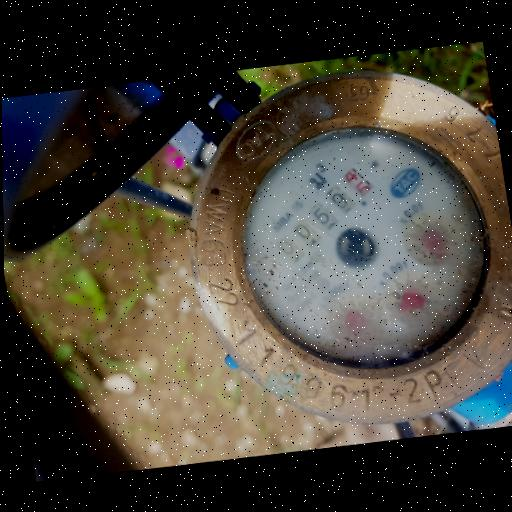0: (272, 231, 306, 269), (290, 215, 324, 252)
4: (340, 164, 374, 201)
5: (306, 199, 341, 236)
9: (322, 180, 358, 217)
border_water_meter_number: (255, 151, 393, 278)
